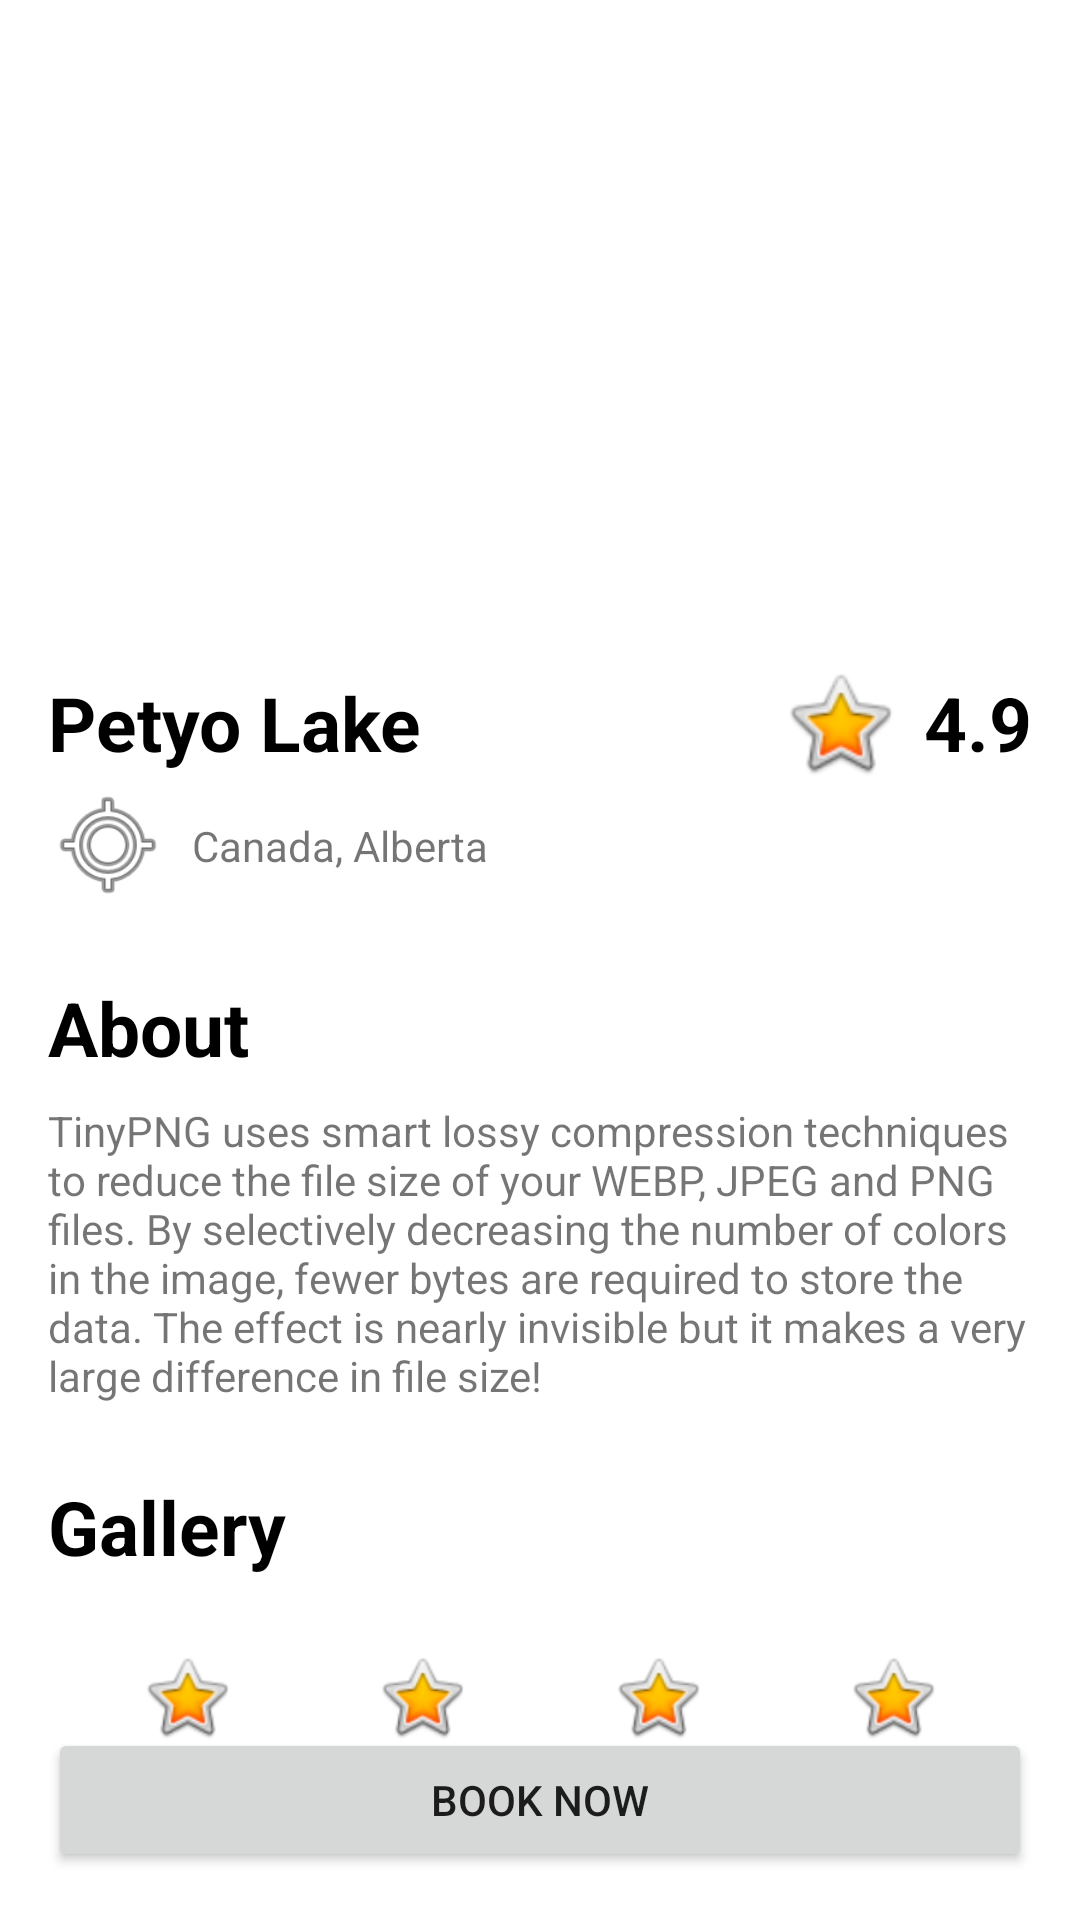

Where icons sit on this 1080w x 1920h app screen, as (x1, y1, x2, y2):
mylocation: (60, 797, 156, 893)
star on: (791, 675, 891, 773), (148, 1659, 228, 1737), (383, 1659, 463, 1737), (619, 1659, 699, 1737), (854, 1659, 934, 1737)
